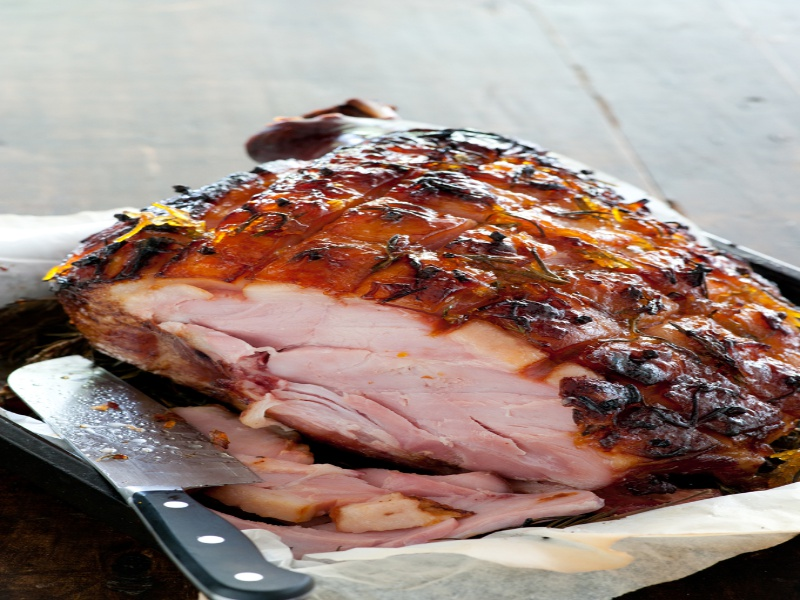knife: (2, 346, 319, 600)
